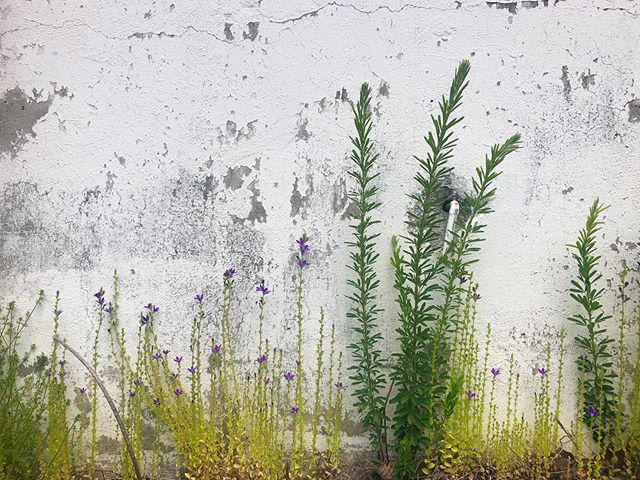vegetation: (1, 187, 611, 480)
wall: (24, 1, 640, 346)
